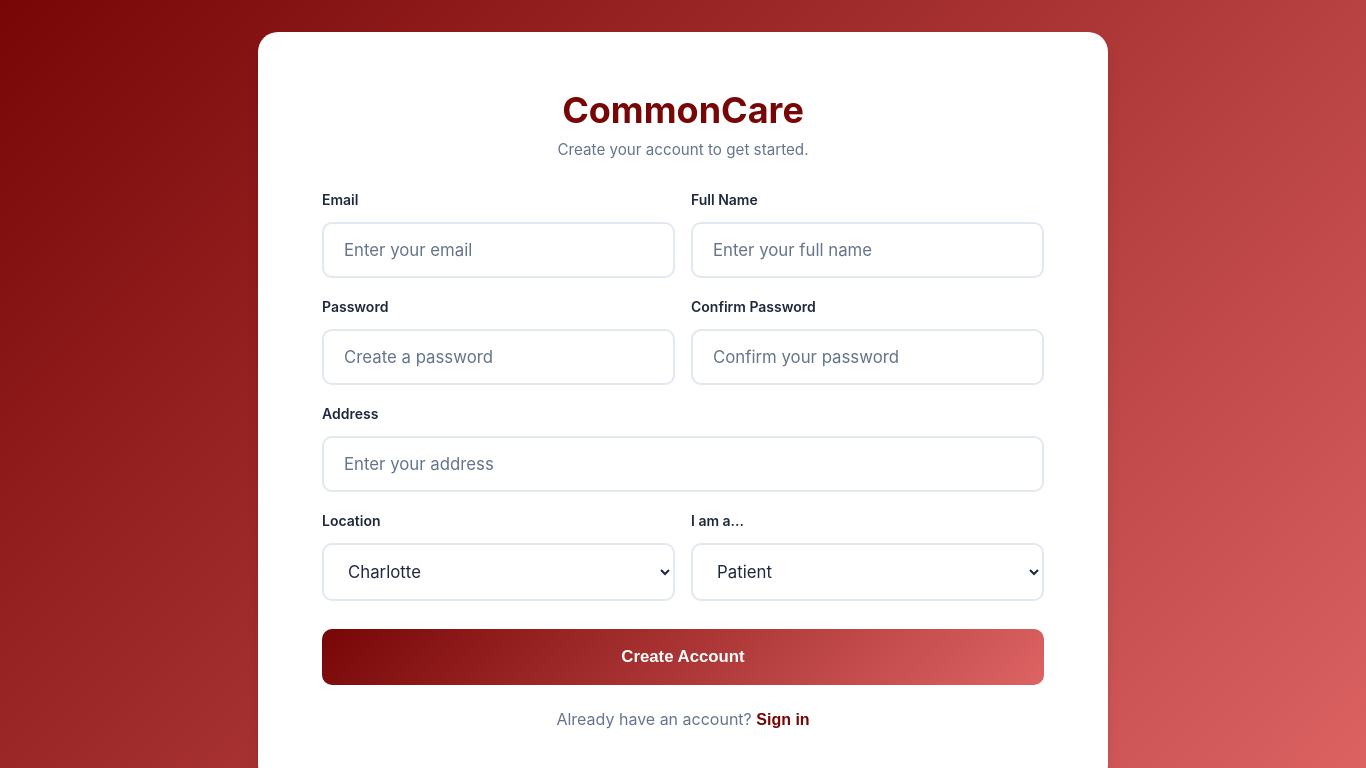
Test: Signup component › shows error when passwords do not match
Type "a@test.com" into the field labelled "Email".
click(498, 250); type("a@test.com")  # box [322,222,675,278]
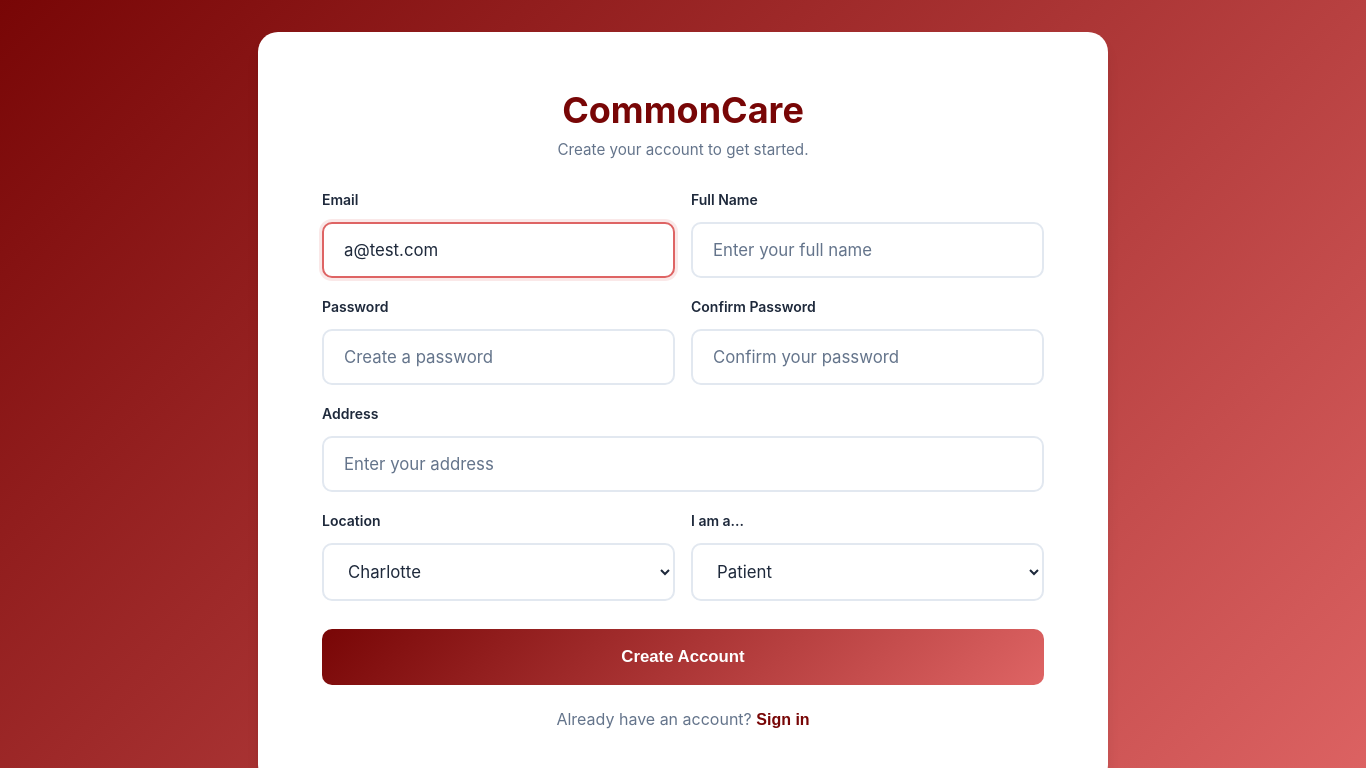
Type "A B" into the field labelled "Full Name".
click(868, 250); type("A B")  # box [691,222,1044,278]
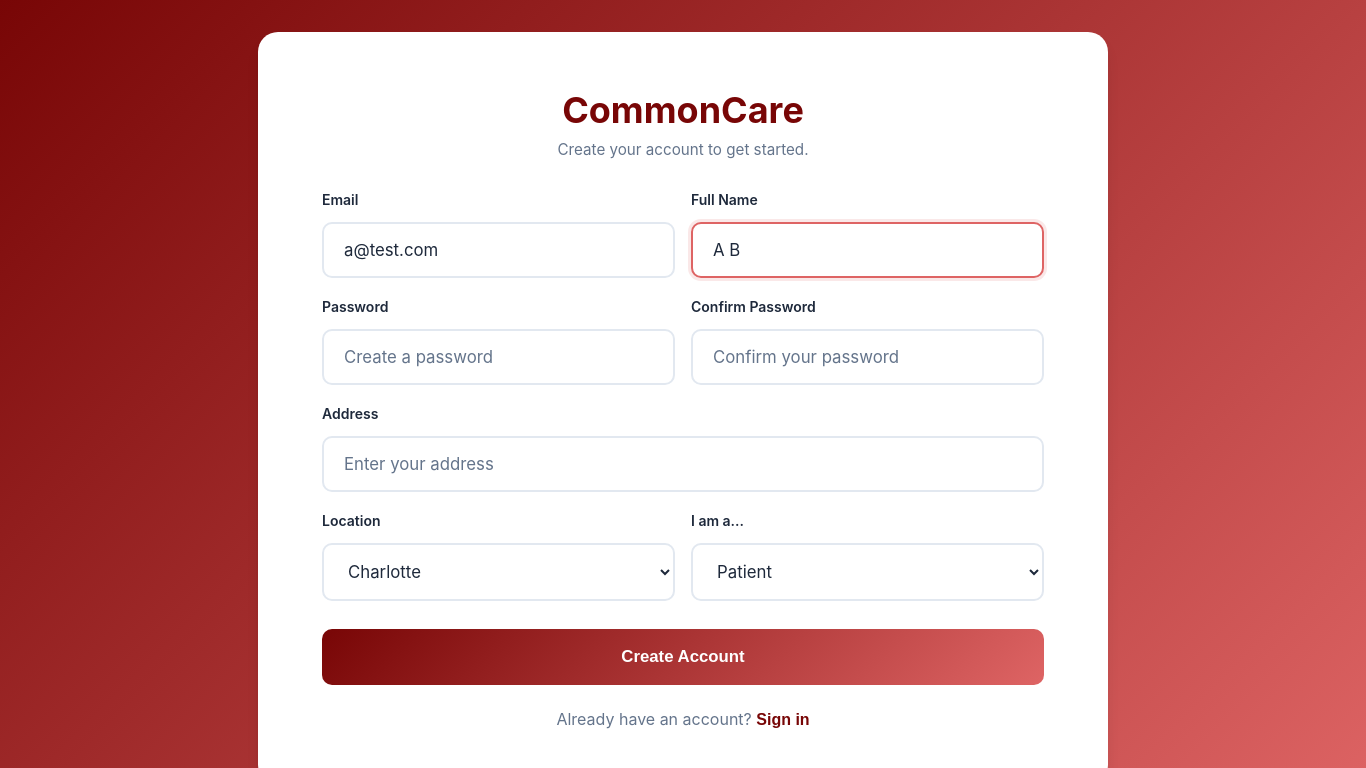
Type "pass123" into the password field labelled "Password".
click(498, 357); type("pass123")  # box [322,329,675,385]
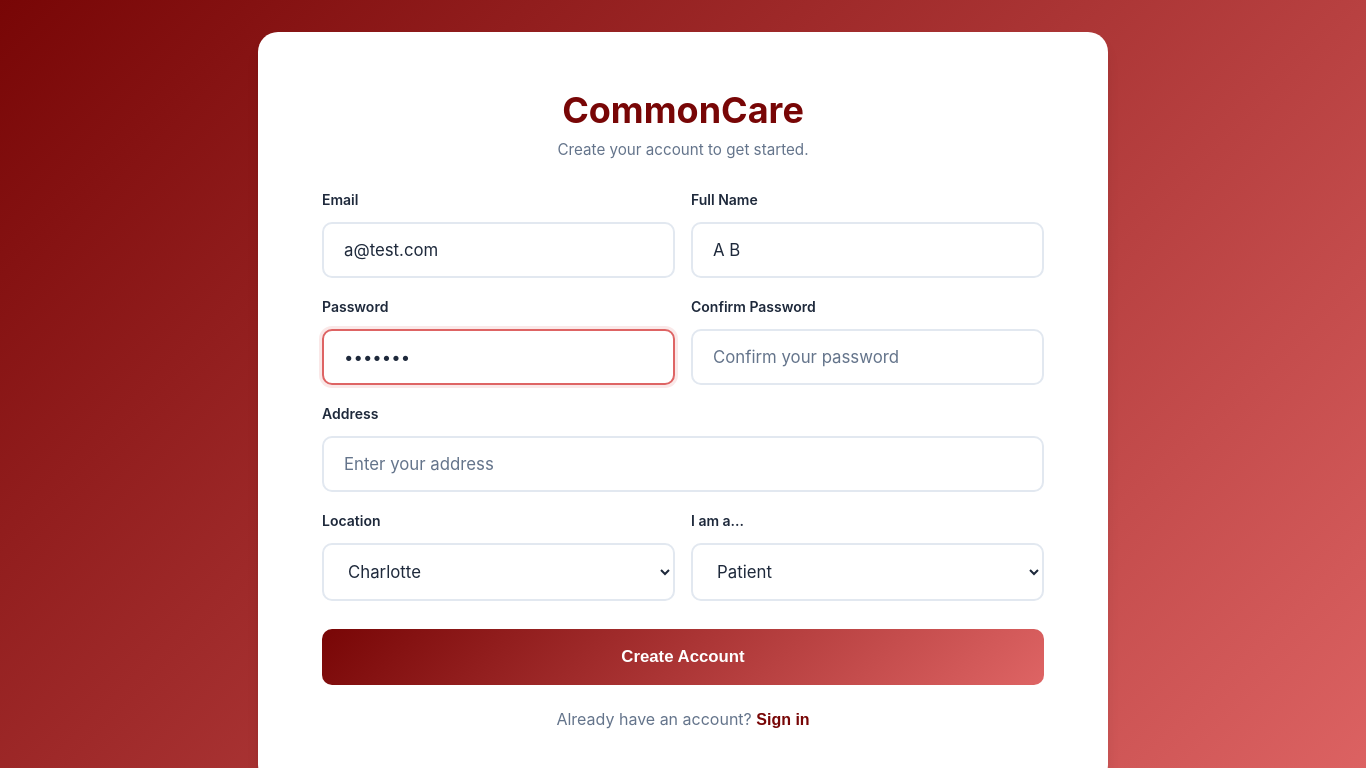
Type "different" into the password field labelled "Confirm Password".
click(868, 357); type("different")  # box [691,329,1044,385]
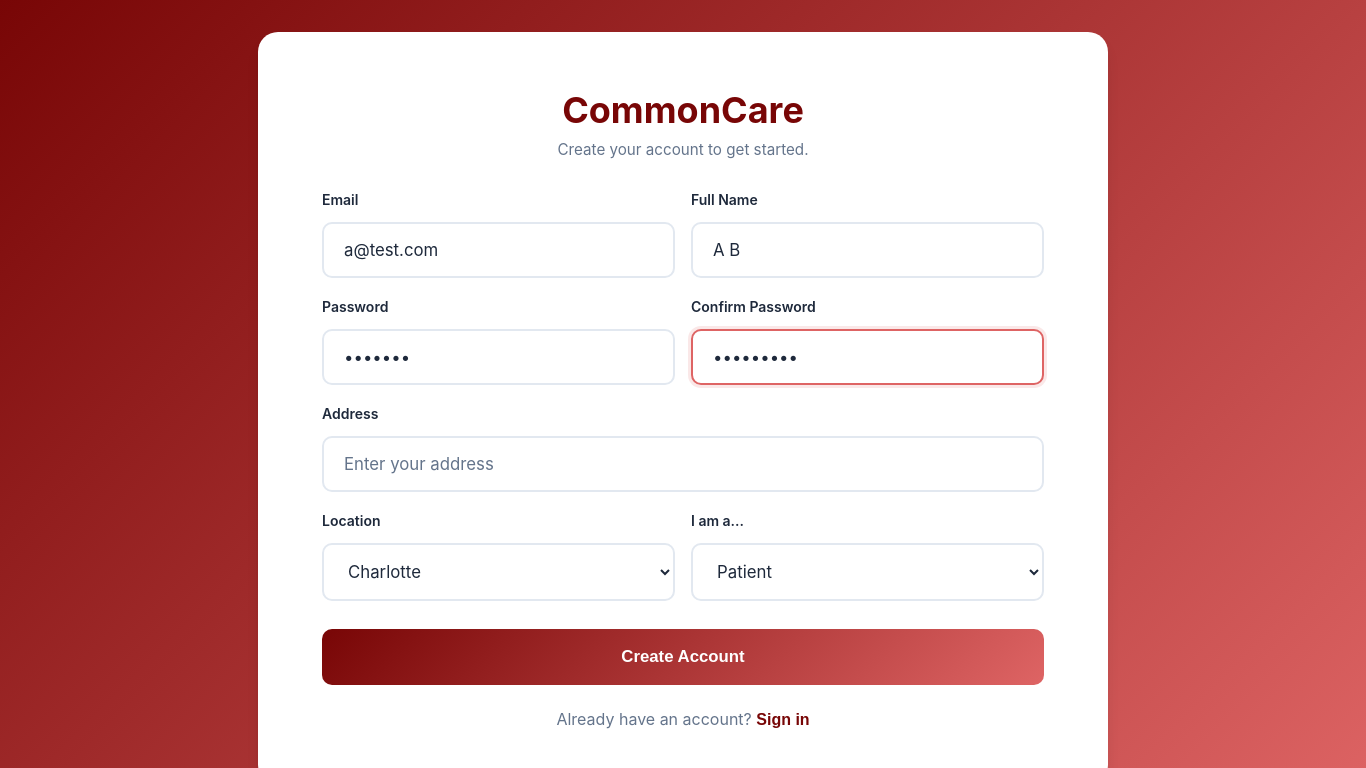
Click the button "Create Account".
click(683, 657)  # box [322,629,1044,685]
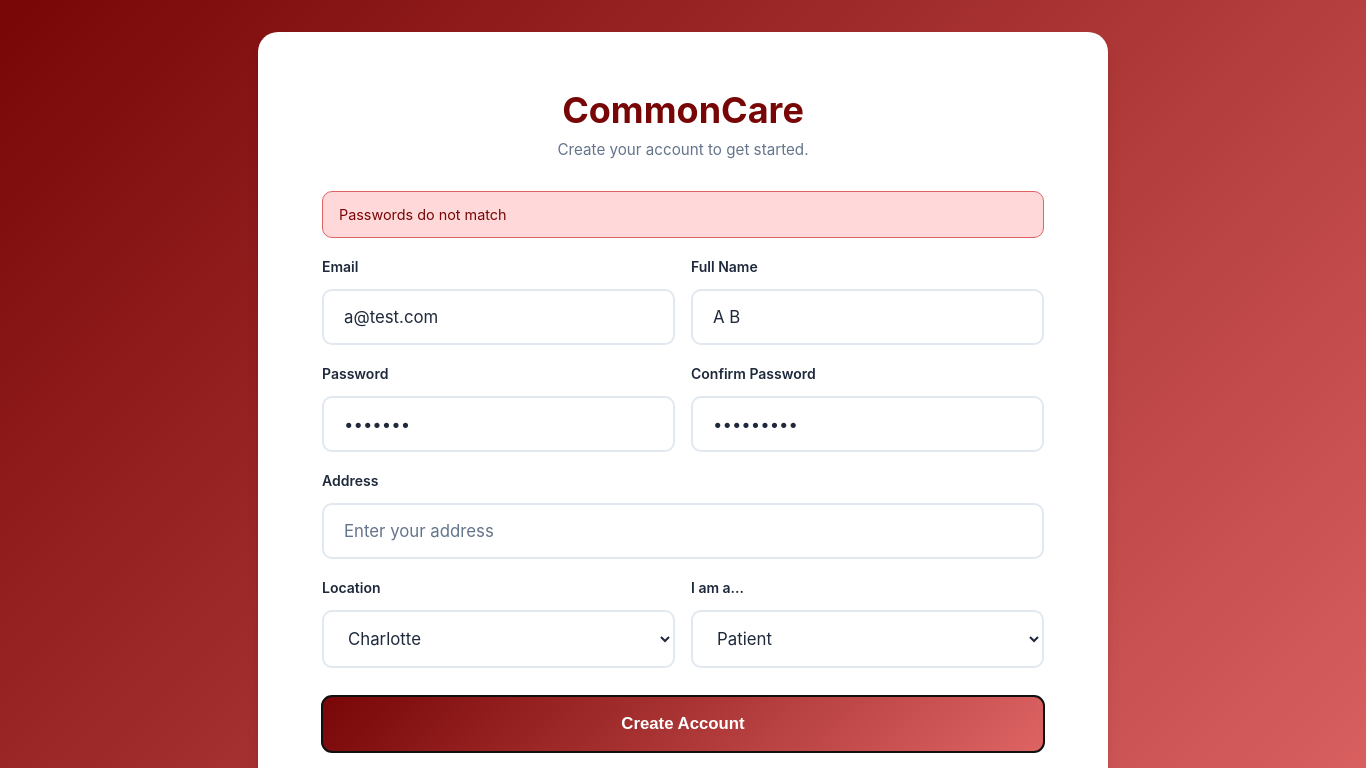
expect the text "Passwords do not match" is shown: met, box [322,191,1044,238]
